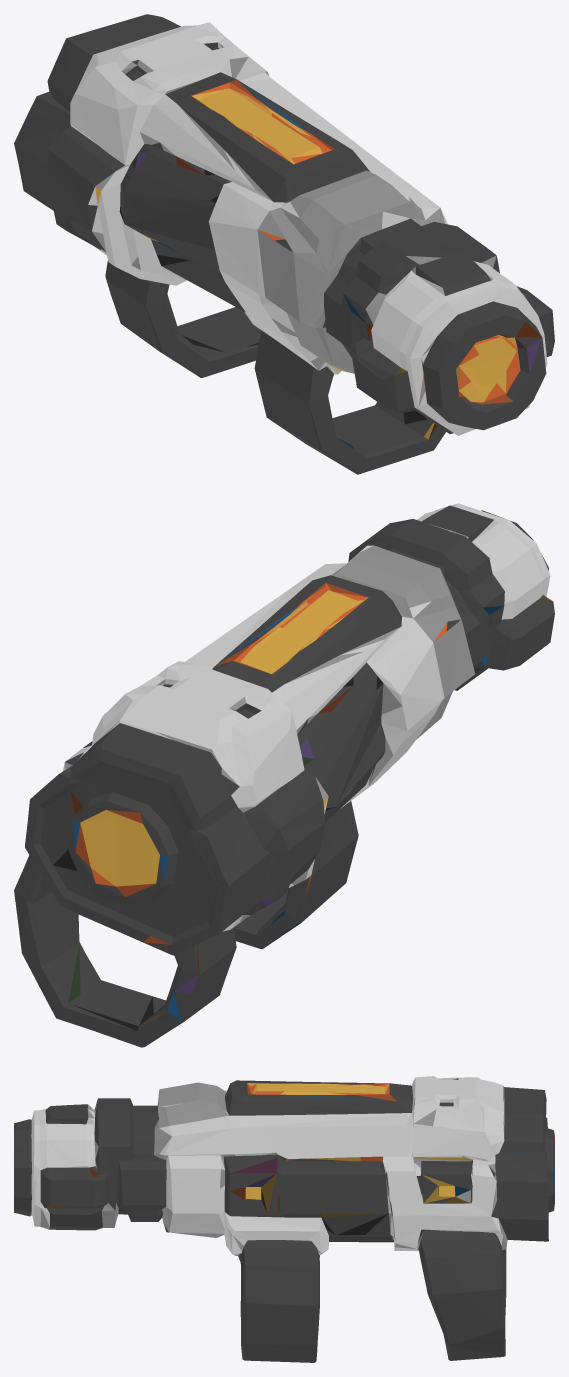
File: ping_launcher.glb
The picture shows the model from 3 angles, top to bottom: view 1: azimuth 30°, elevation 25°; view 2: azimuth 150°, elevation 25°; view 3: azimuth 270°, elevation 25°; orthographic projection. The views are drawn at different scales.
Visible parts, largest first — view 1: node_0; view 2: node_0; view 3: node_0.
Boxes of the visible parts, x1,y1,x2,y2 form: node_0: (14, 14, 554, 474); node_0: (14, 503, 554, 1047); node_0: (14, 1076, 554, 1362).
Bounding box in the file's own units: 0.4044 × 0.4964 × 0.9999.
